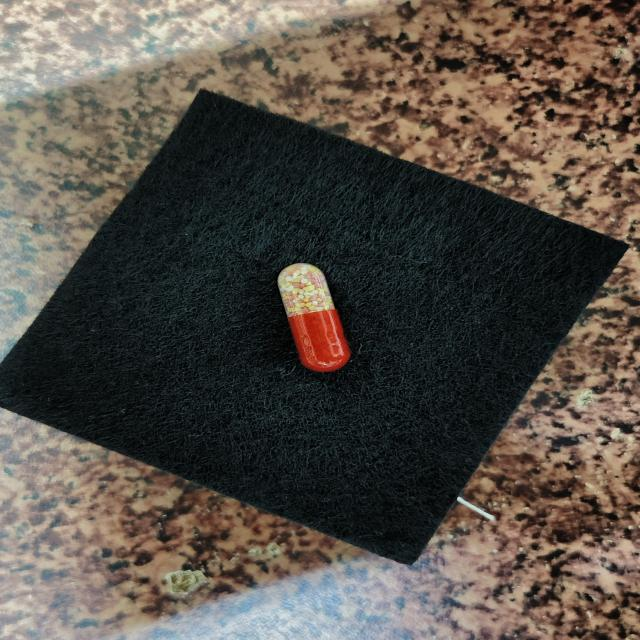Intact Capsule: (278, 263, 350, 372)
